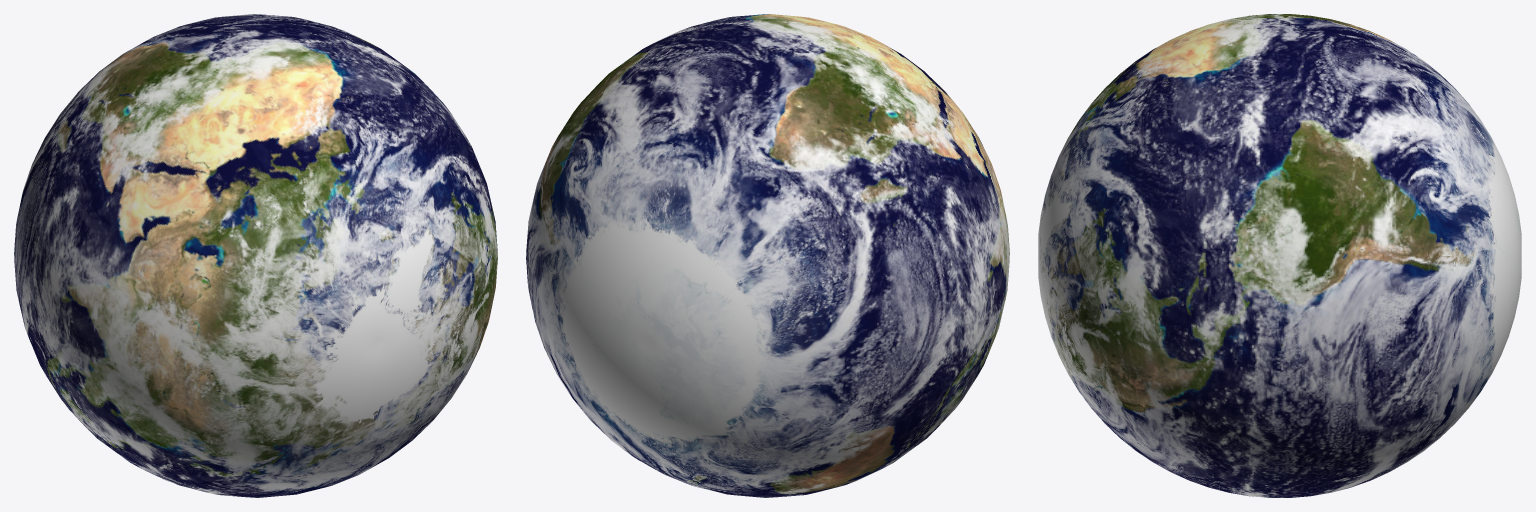
The model's file is unit-sphere-high-res.fbx.
The picture shows the model from 3 angles, left to right: view 1: azimuth 30°, elevation 25°; view 2: azimuth 150°, elevation 25°; view 3: azimuth 270°, elevation 25°; orthographic projection.
Parts seen in each view (by area): view 1: Sphere; view 2: Sphere; view 3: Sphere.
Part boxes in pixels (<box>): Sphere: <box>14,14,497,497</box>; Sphere: <box>526,14,1009,497</box>; Sphere: <box>1038,14,1521,497</box>.
Bounding box in the file's own units: 2 × 1.99 × 1.99.
